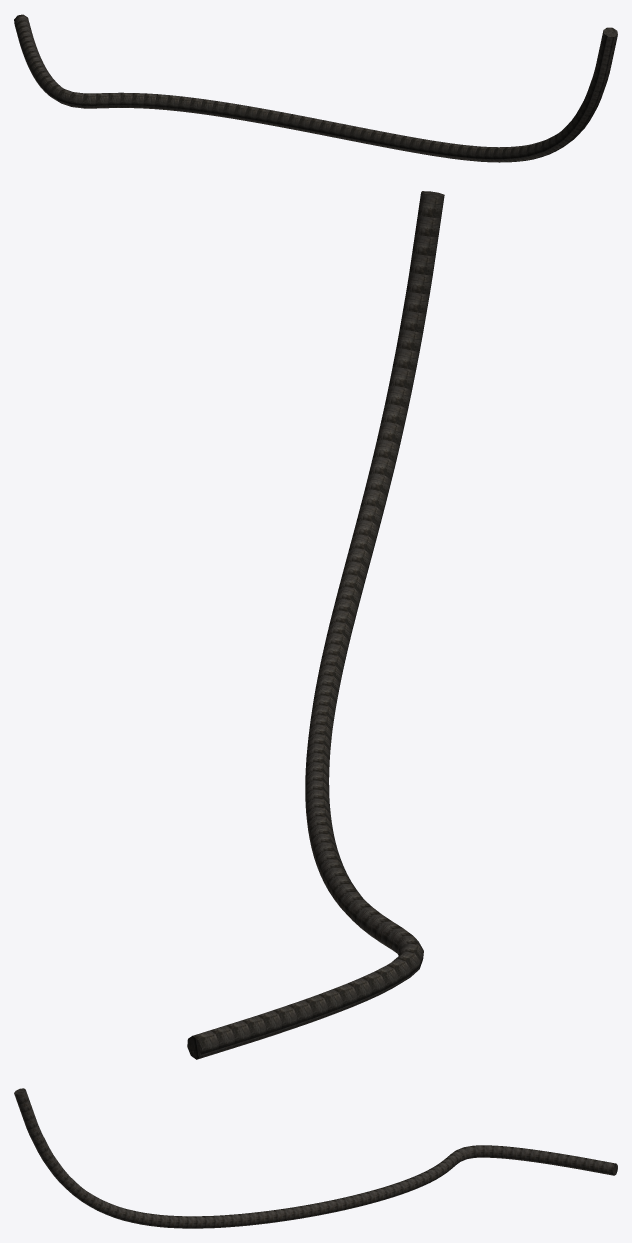
File: Wire01.fbx
3 renders of one model, top to bottom at view 1: azimuth 30°, elevation 25°; view 2: azimuth 150°, elevation 25°; view 3: azimuth 270°, elevation 25°, orthographic. The views are drawn at different scales.
Visible parts, largest first — view 1: Wire01; view 2: Wire01; view 3: Wire01.
Part boxes in pixels (x1,y1,x2,y2): Wire01: [14, 14, 617, 162]; Wire01: [187, 191, 444, 1059]; Wire01: [14, 1088, 617, 1228].
Bounding box in the file's own units: 2.31 × 1.68 × 5.34.
